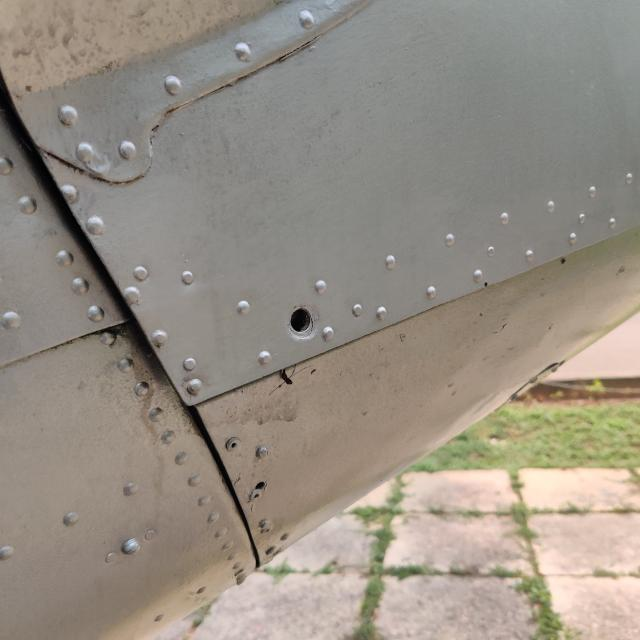missing-head: (254, 267, 358, 373)
